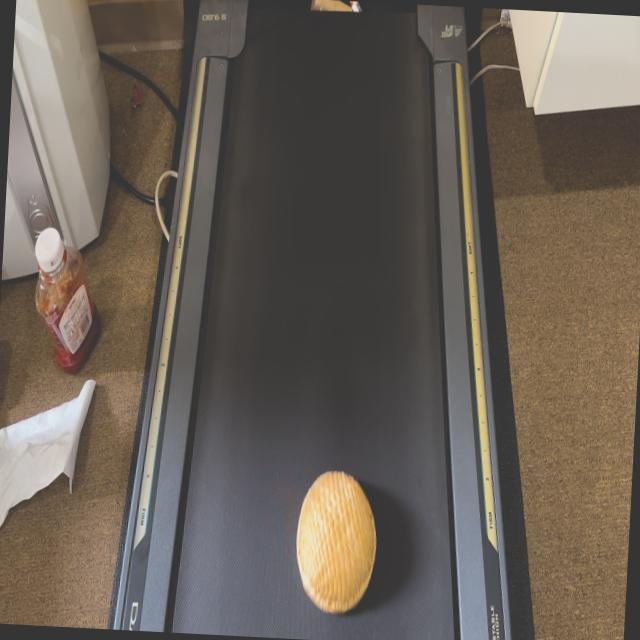Recycle: (310, 0, 354, 12)
Trash: (293, 470, 379, 614), (346, 2, 361, 14)
